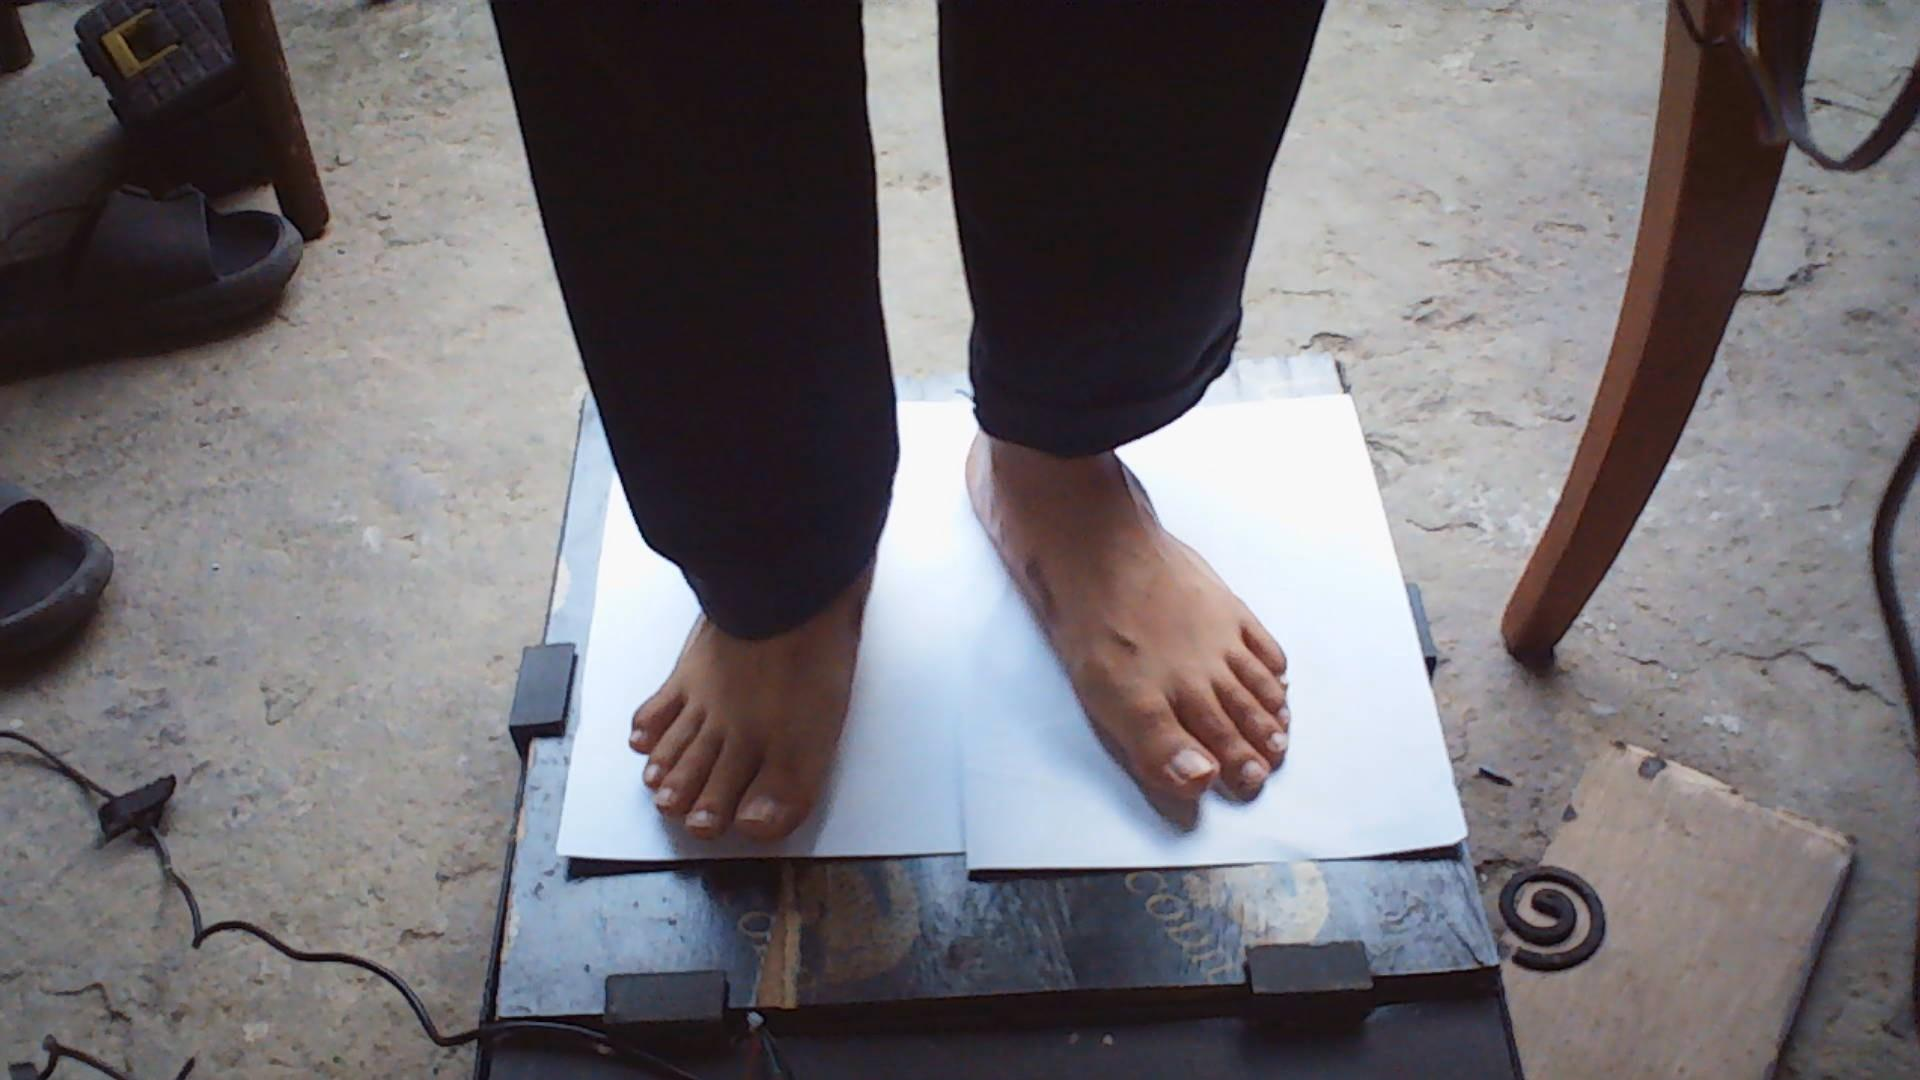Bare_feet: (934, 463, 1300, 855), (603, 583, 890, 847)
